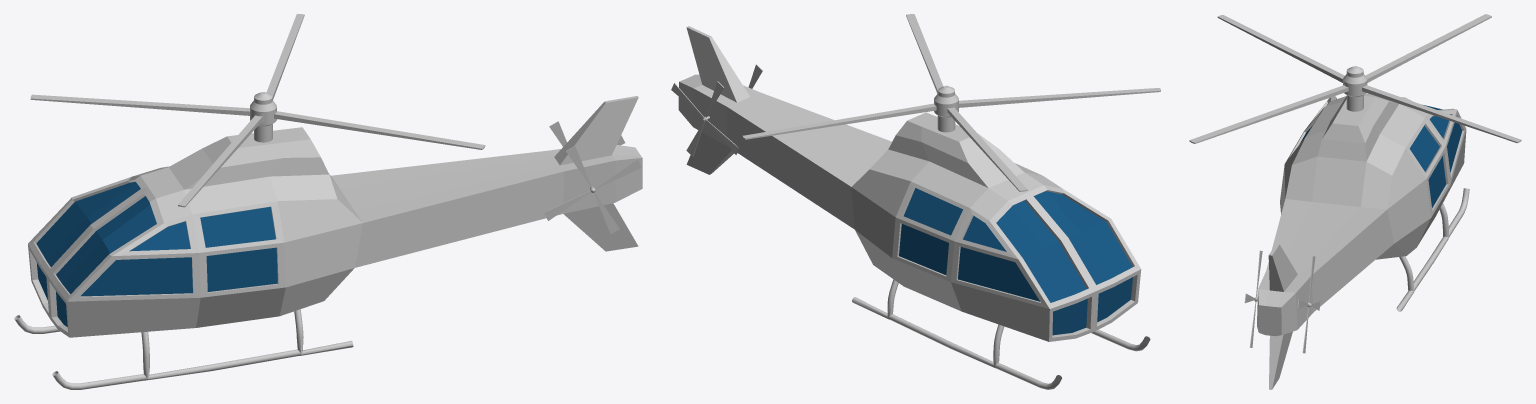
The model's file is helicopter_animation_000161.obj.
3 renders of one model, left to right at view 1: azimuth 30°, elevation 25°; view 2: azimuth 150°, elevation 25°; view 3: azimuth 270°, elevation 25°, orthographic. The views are drawn at different scales.
Parts seen in each view (by area): view 1: Helicopter.007_Cylinder.008, Helicopter.001_Cylinder.001, Helicopter.003_Cylinder.004; view 2: Helicopter.007_Cylinder.008, Helicopter.001_Cylinder.001, Helicopter.004_Cylinder.005; view 3: Helicopter.007_Cylinder.008, Helicopter.001_Cylinder.001, Helicopter.004_Cylinder.005, Helicopter.003_Cylinder.004.
Boxes of the visible parts, x1,y1,x2,y2 form: Helicopter.007_Cylinder.008: (14,96,642,389); Helicopter.001_Cylinder.001: (30,14,485,207); Helicopter.003_Cylinder.004: (544,146,641,234); Helicopter.007_Cylinder.008: (678,26,1150,389); Helicopter.001_Cylinder.001: (742,14,1160,191); Helicopter.004_Cylinder.005: (671,81,738,156); Helicopter.007_Cylinder.008: (1257,93,1469,389); Helicopter.001_Cylinder.001: (1189,14,1521,143); Helicopter.004_Cylinder.005: (1297,256,1320,353); Helicopter.003_Cylinder.004: (1244,250,1262,347).
Size of the model in its own units: 7.5 by 3.2 by 4.38.
